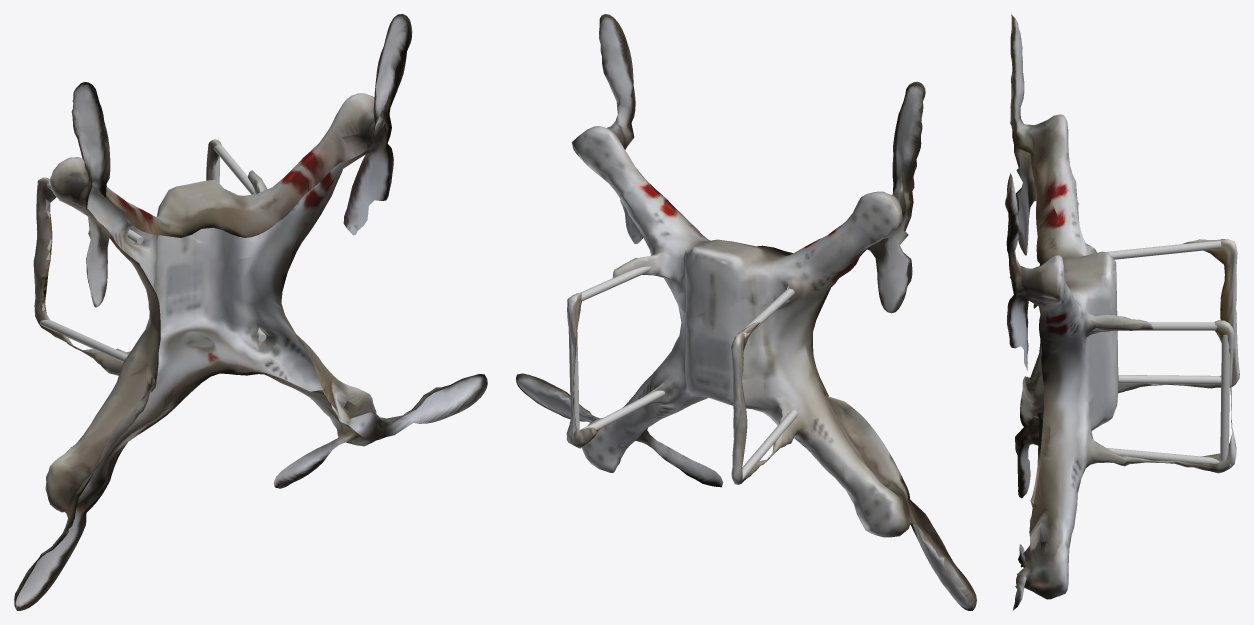
File: Phantom2.obj
3 views of the same model, side by side, from view 1: azimuth 30°, elevation 25°; view 2: azimuth 150°, elevation 25°; view 3: azimuth 270°, elevation 25° (orthographic). The views are drawn at different scales.
Parts seen in each view (by area): view 1: mmGroup0, mmGroup116, mmGroup106, mmGroup76, mmGroup117, mmGroup69, mmGroup906, mmGroup31, mmGroup107, mmGroup884, mmGroup905, mmGroup91 (+2 smaller); view 2: mmGroup0, mmGroup117, mmGroup106, mmGroup76, mmGroup86, mmGroup107, mmGroup31, mmGroup905, mmGroup5, mmGroup6, mmGroup91, mmGroup9 (+1 smaller); view 3: mmGroup0, mmGroup116, mmGroup884, mmGroup106, mmGroup117, mmGroup69, mmGroup9, mmGroup8, mmGroup5, mmGroup107, mmGroup6, mmGroup76 (+3 smaller).
Part boxes in pixels (bbox=[...]): mmGroup0: bbox=[33, 93, 412, 512]; mmGroup116: bbox=[105, 134, 370, 237]; mmGroup106: bbox=[71, 82, 110, 192]; mmGroup76: bbox=[14, 497, 86, 610]; mmGroup117: bbox=[373, 14, 412, 143]; mmGroup69: bbox=[343, 142, 393, 235]; mmGroup906: bbox=[85, 363, 339, 512]; mmGroup31: bbox=[403, 374, 487, 423]; mmGroup107: bbox=[87, 221, 141, 307]; mmGroup884: bbox=[278, 168, 350, 419]; mmGroup905: bbox=[273, 423, 356, 488]; mmGroup91: bbox=[113, 242, 160, 392]; mmGroup0: bbox=[566, 123, 913, 537]; mmGroup117: bbox=[599, 14, 635, 128]; mmGroup106: bbox=[892, 81, 925, 192]; mmGroup76: bbox=[907, 499, 976, 610]; mmGroup86: bbox=[827, 396, 909, 501]; mmGroup107: bbox=[829, 234, 907, 313]; mmGroup31: bbox=[516, 373, 594, 421]; mmGroup905: bbox=[635, 430, 723, 487]; mmGroup5: bbox=[742, 410, 797, 480]; mmGroup6: bbox=[566, 390, 665, 443]; mmGroup91: bbox=[805, 288, 830, 398]; mmGroup9: bbox=[568, 327, 579, 431]; mmGroup0: bbox=[1010, 114, 1239, 599]; mmGroup116: bbox=[1030, 153, 1061, 308]; mmGroup884: bbox=[1029, 310, 1051, 551]; mmGroup106: bbox=[1010, 14, 1024, 132]; mmGroup117: bbox=[1005, 173, 1027, 294]; mmGroup69: bbox=[1007, 294, 1028, 370]; mmGroup9: bbox=[1220, 335, 1229, 461]; mmGroup8: bbox=[1107, 241, 1221, 259]; mmGroup5: bbox=[1118, 375, 1221, 384]; mmGroup107: bbox=[1017, 174, 1037, 255]; mmGroup6: bbox=[1107, 448, 1231, 467]; mmGroup76: bbox=[1015, 427, 1032, 498].
Bounding box in the file's own units: 14.07 × 14.86 × 6.22.
